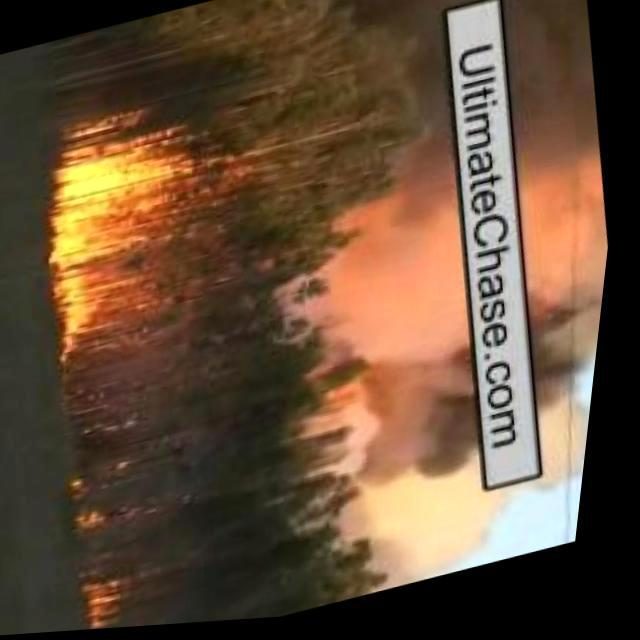fire: (29, 129, 211, 367), (72, 472, 124, 546), (89, 572, 149, 632)
